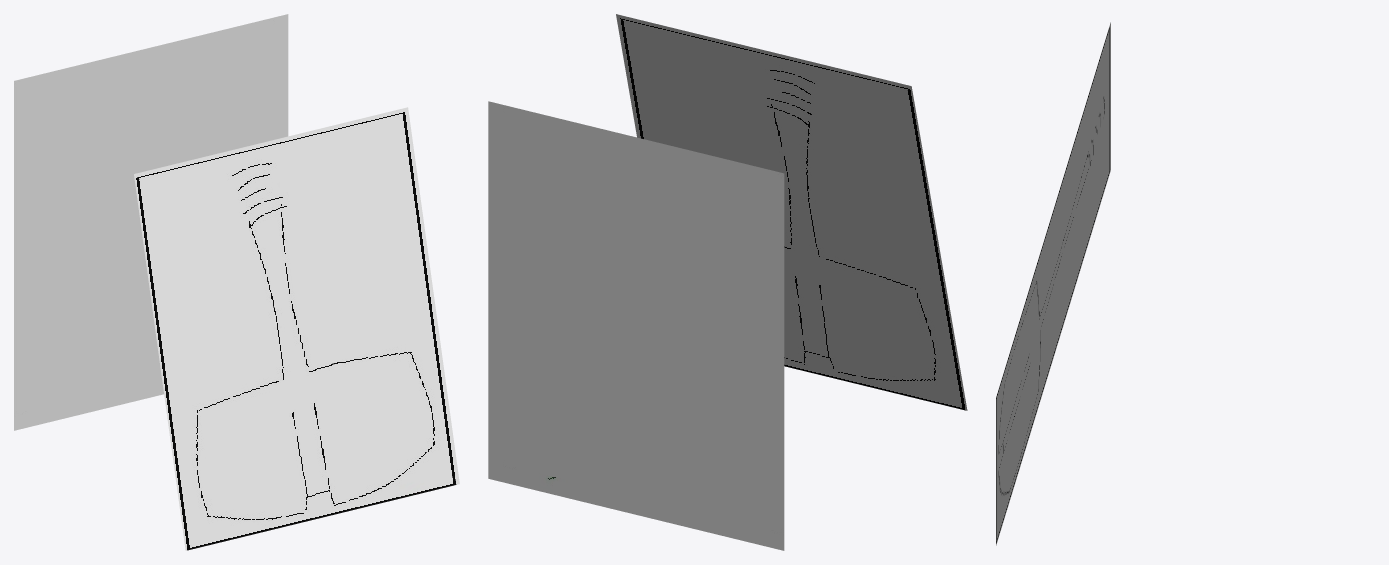
Rendered from Ellinian double axe.glb.
3 renders of one model, left to right at view 1: azimuth 30°, elevation 25°; view 2: azimuth 150°, elevation 25°; view 3: azimuth 270°, elevation 25°, orthographic. The views are drawn at different scales.
Parts seen in each view (by area): view 1: mesh_id29, mesh_id1; view 2: mesh_id1, mesh_id29; view 3: mesh_id29.
Boxes of the visible parts, box(x1,y1,x2,y2) form: mesh_id29: box(134, 107, 459, 550); mesh_id1: box(14, 14, 288, 430); mesh_id1: box(488, 101, 784, 550); mesh_id29: box(616, 14, 967, 410); mesh_id29: box(996, 22, 1110, 545).
Size of the model in its own units: 0.329 by 0.4 by 0.3536.
Materials: 2 (2 with a texture image).
